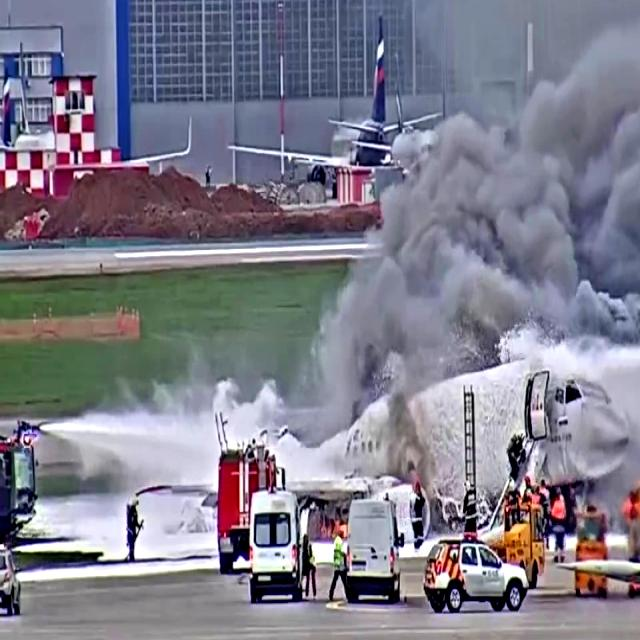smoke: (287, 22, 640, 420)
